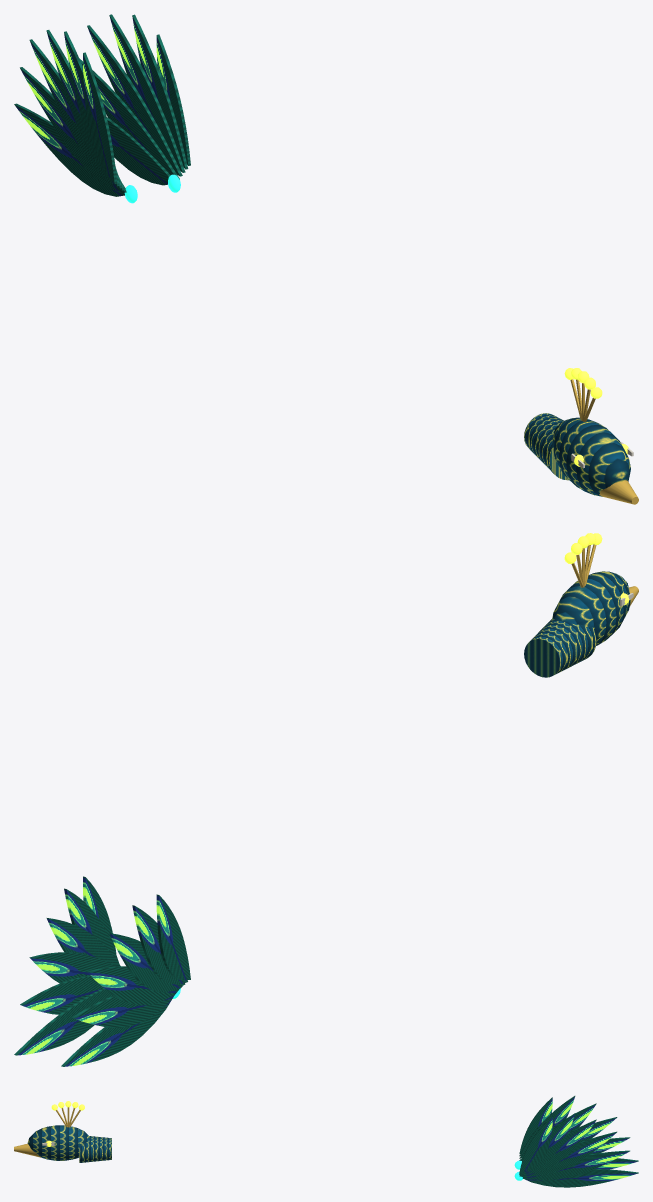
Rendered from SHIKARI_98_MayurRaj_Attachments.fbx.
The picture shows the model from 3 angles, top to bottom: view 1: azimuth 30°, elevation 25°; view 2: azimuth 150°, elevation 25°; view 3: azimuth 270°, elevation 25°; orthographic projection. The views are drawn at different scales.
Parts seen in each view (by area): view 1: MayurRaj_Wings_LOD0, MayurRaj_Head_LOD0; view 2: MayurRaj_Wings_LOD0, MayurRaj_Head_LOD0; view 3: MayurRaj_Wings_LOD0, MayurRaj_Head_LOD0.
Boxes of the visible parts, x1=… form: MayurRaj_Wings_LOD0: x1=14, y1=14, x2=190, y2=203; MayurRaj_Head_LOD0: x1=524, y1=368, x2=638, y2=504; MayurRaj_Wings_LOD0: x1=14, y1=876, x2=190, y2=1066; MayurRaj_Head_LOD0: x1=524, y1=533, x2=638, y2=677; MayurRaj_Wings_LOD0: x1=514, y1=1096, x2=638, y2=1187; MayurRaj_Head_LOD0: x1=14, y1=1101, x2=111, y2=1162.
Size of what is drawn, in the model's own units: 0.085 by 0.1625 by 1.15.
Materials: 1 (1 with a texture image).
